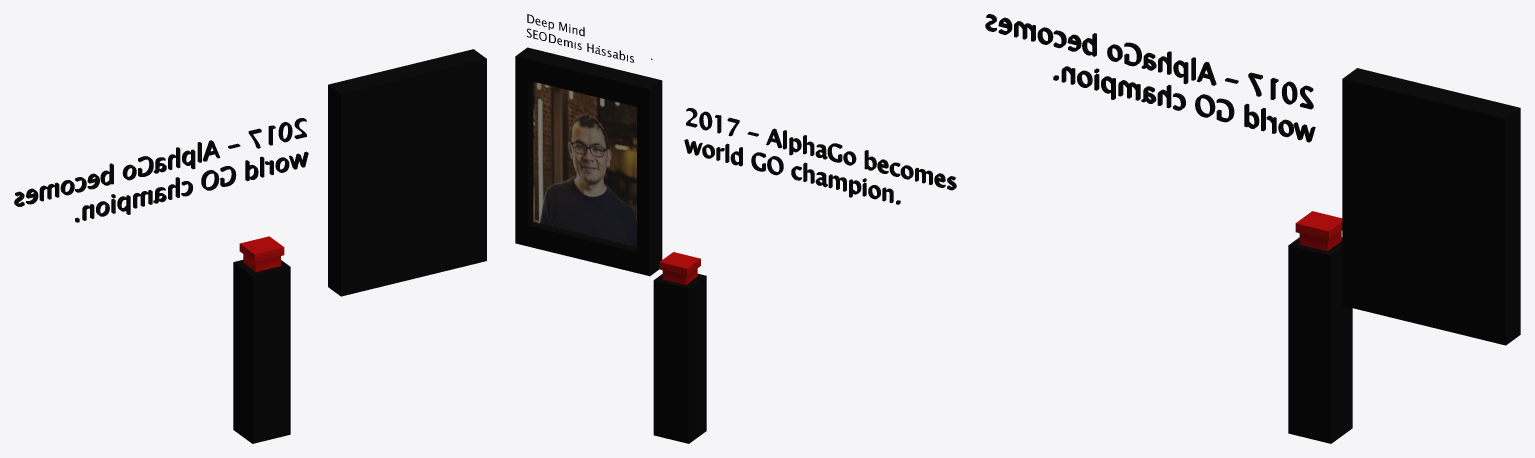
3 views of the same model, side by side, from view 1: azimuth 30°, elevation 25°; view 2: azimuth 150°, elevation 25°; view 3: azimuth 330°, elevation 25° (orthographic). The views are drawn at different scales.
Parts seen in each view (by area): view 1: typeMesh56, polySurface4481; view 2: typeMesh56, polySurface4481; view 3: typeMesh56, polySurface4481.
Part boxes in pixels (left/top/right/bottom): typeMesh56: left=14, top=49, right=486, bottom=296; polySurface4481: left=233, top=236, right=290, bottom=443; typeMesh56: left=515, top=14, right=956, bottom=276; polySurface4481: left=653, top=252, right=706, bottom=443; typeMesh56: left=985, top=14, right=1520, bottom=345; polySurface4481: left=1288, top=211, right=1352, bottom=443.
Size of what is drawn, in the model's own units: 5.05 by 4.03 by 0.7382.
Materials: 4 (1 with a texture image).
